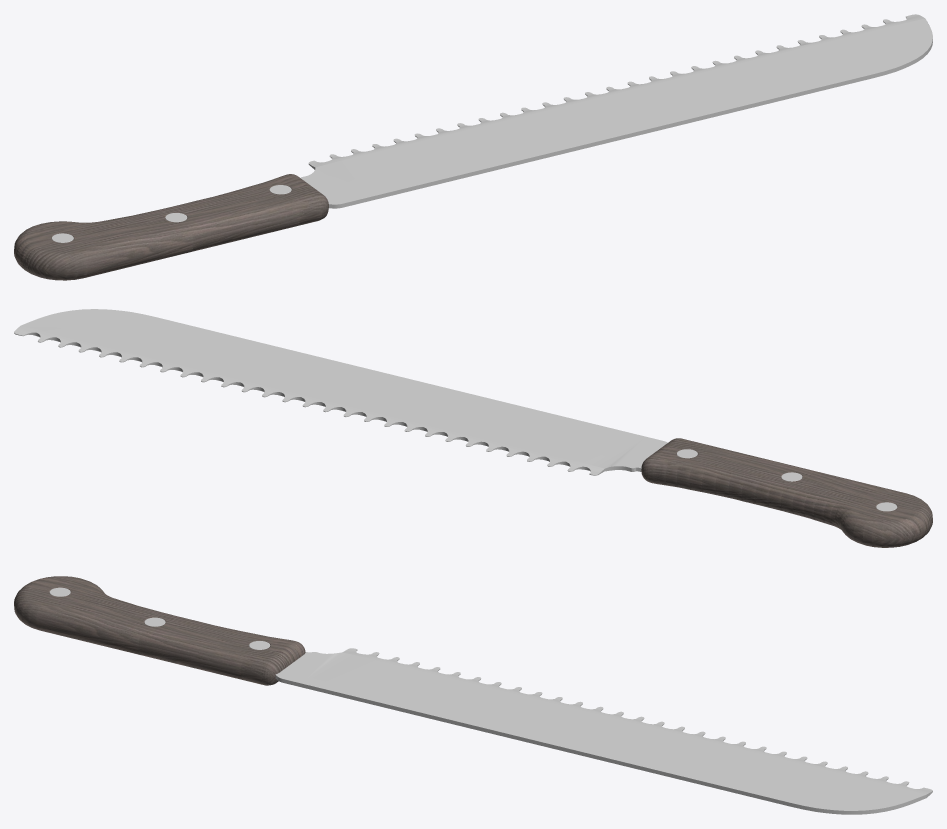
File: bread_knife.fbx
The picture shows the model from 3 angles, top to bottom: view 1: azimuth 30°, elevation 25°; view 2: azimuth 150°, elevation 25°; view 3: azimuth 330°, elevation 25°; orthographic projection. The views are drawn at different scales.
Parts seen in each view (by area): view 1: BreadKnifeBlade001, BreadKnifeHilt; view 2: BreadKnifeBlade001, BreadKnifeHilt, BreadKnifeBlade002; view 3: BreadKnifeBlade001, BreadKnifeHilt.
Part boxes in pixels (x1,y1,x2,y2): BreadKnifeBlade001: (300,14,932,208); BreadKnifeHilt: (14,174,328,280); BreadKnifeBlade001: (14,309,667,475); BreadKnifeHilt: (641,438,932,547); BreadKnifeBlade002: (676,449,897,511); BreadKnifeBlade001: (275,648,932,814); BreadKnifeHilt: (14,576,305,685).
Size of what is drawn, in the model's own units: 37.12 by 3.9 by 1.02.
